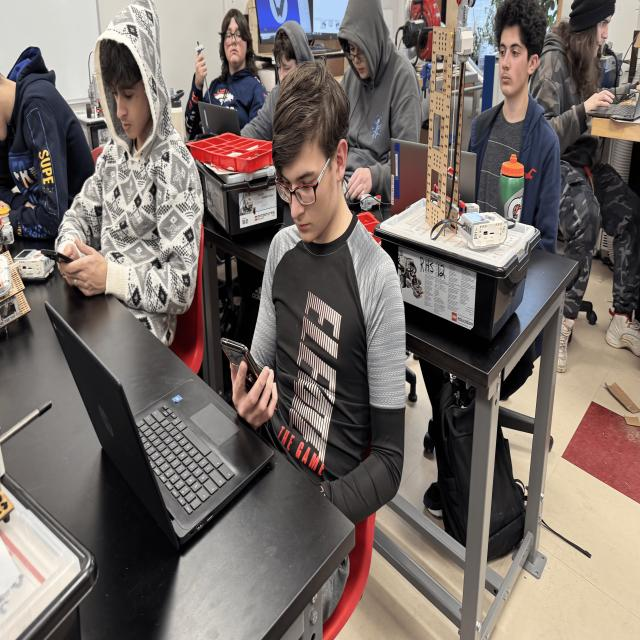pen: (220, 336, 274, 409), (40, 248, 79, 271)
